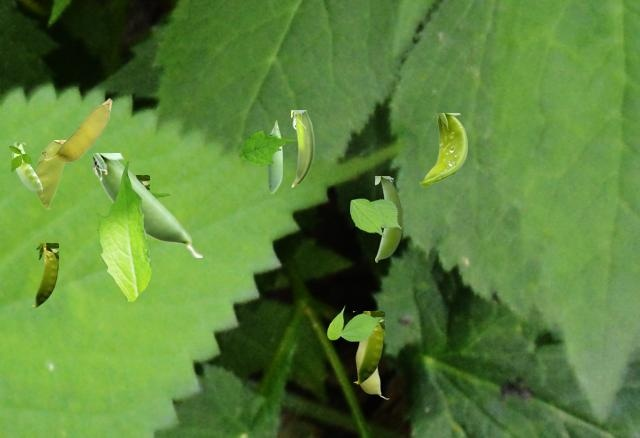pea: (93, 153, 201, 256), (44, 98, 111, 161), (419, 113, 466, 185), (375, 176, 401, 261), (353, 311, 383, 383), (35, 140, 65, 208), (355, 340, 388, 398), (291, 110, 314, 186), (31, 243, 57, 306), (12, 142, 41, 192), (267, 120, 281, 192), (136, 175, 148, 188)
